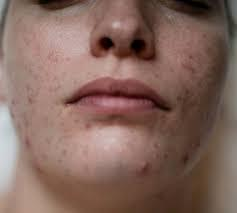Oily-Skin: (9, 33, 200, 175)
